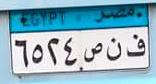2: (48, 37, 61, 65)
4: (63, 37, 77, 66)
5: (29, 43, 47, 66)
6: (14, 39, 28, 67)
faa: (125, 32, 147, 58)
noon: (105, 37, 122, 61)
saad: (82, 42, 104, 63)
